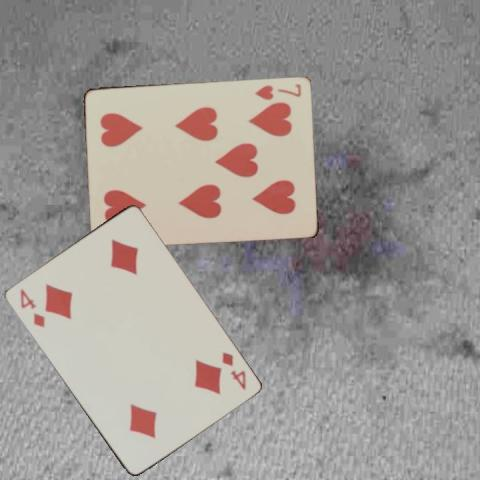4d: (16, 286, 46, 330), (219, 348, 247, 392)
7h: (252, 81, 303, 101)
